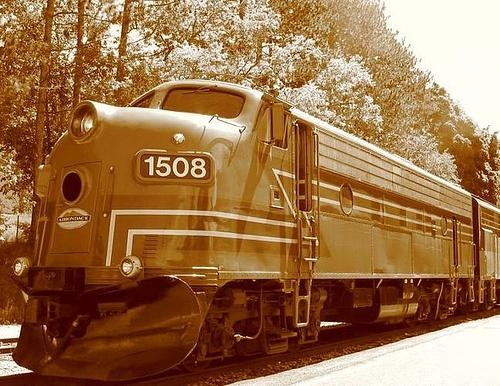train: (15, 80, 500, 383)
